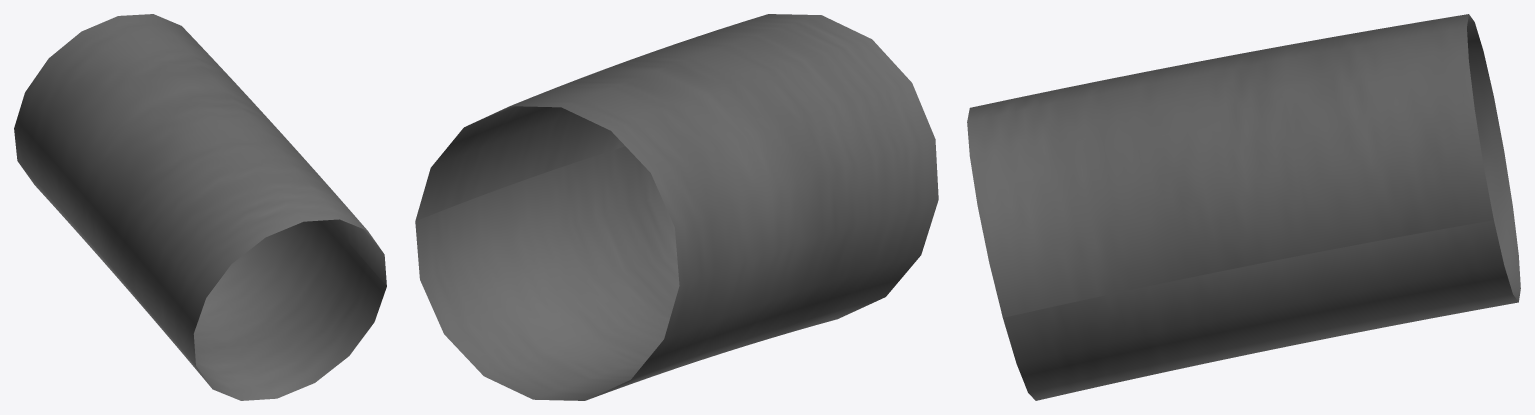
File: mastarmcurve_8x2_c6.obj
The picture shows the model from 3 angles, left to right: view 1: azimuth 30°, elevation 25°; view 2: azimuth 150°, elevation 25°; view 3: azimuth 270°, elevation 25°; orthographic projection. The views are drawn at different scales.
Parts seen in each view (by area): view 1: mastarm_8x2_c6; view 2: mastarm_8x2_c6; view 3: mastarm_8x2_c6.
Boxes of the visible parts, left/top/right/bottom form: mastarm_8x2_c6: left=14, top=14, right=386, bottom=400; mastarm_8x2_c6: left=415, top=14, right=938, bottom=400; mastarm_8x2_c6: left=967, top=14, right=1520, bottom=400.
Size of the model in its own units: 0.5612 by 0.7394 by 1.03.
